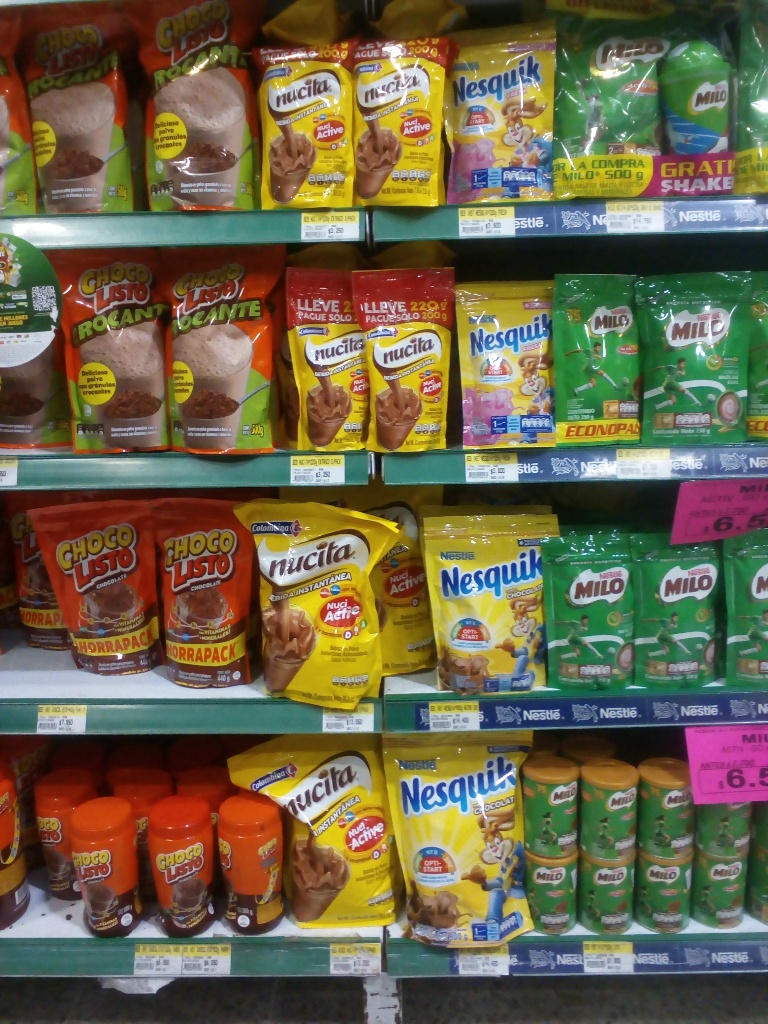COL0170102DYP50000: (9, 1, 149, 212)
COL0170103DYP44000: (26, 499, 170, 671)
COL0170103TRR30000: (60, 792, 147, 941)
COL0170203DYP25000: (554, 263, 643, 448)
COL0170203DYP50000: (557, 27, 655, 195)
COL0170203LAT20000: (519, 757, 578, 856)
COL0170305DYP20000: (452, 275, 563, 447)
